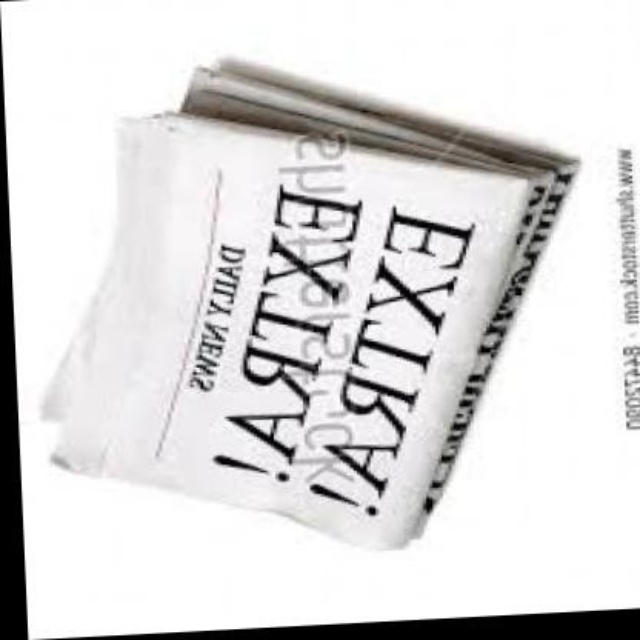trash: (49, 60, 575, 546)
